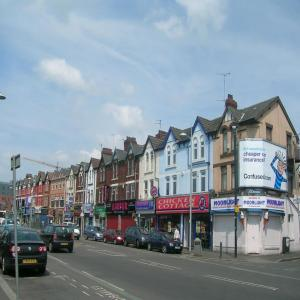Vehicle-registration-plate: (24, 259, 37, 264), (61, 243, 69, 246)
